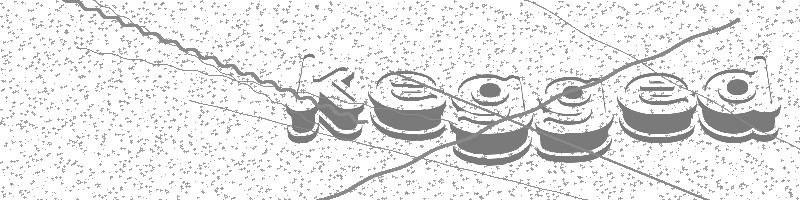d: (697, 53, 781, 143)
e: (365, 69, 451, 139), (615, 71, 696, 141)
g: (448, 72, 535, 164), (532, 72, 612, 164)
k: (283, 50, 366, 142)
